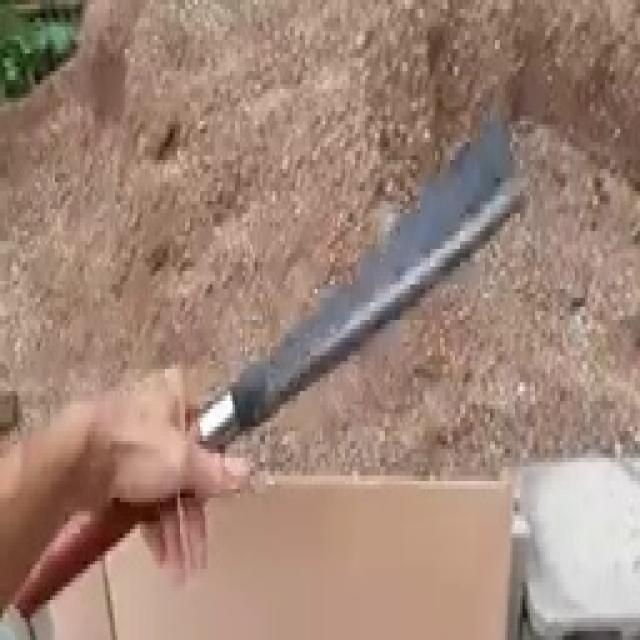eto: (13, 104, 525, 618)
